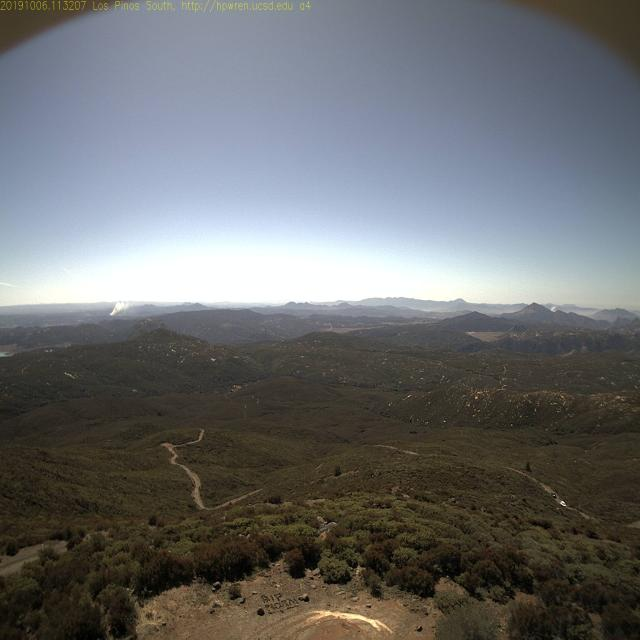smoke: (103, 294, 144, 321), (546, 301, 558, 313)
